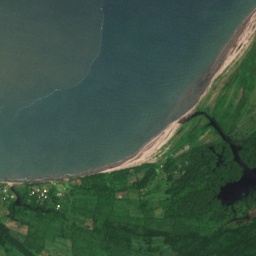Marine Debris: (12, 0, 106, 119)
